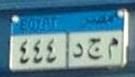4: (33, 39, 44, 63), (47, 39, 56, 64), (20, 40, 28, 64)
daal: (72, 42, 85, 60)
jeem: (88, 36, 104, 61)
meem: (107, 37, 119, 59)
